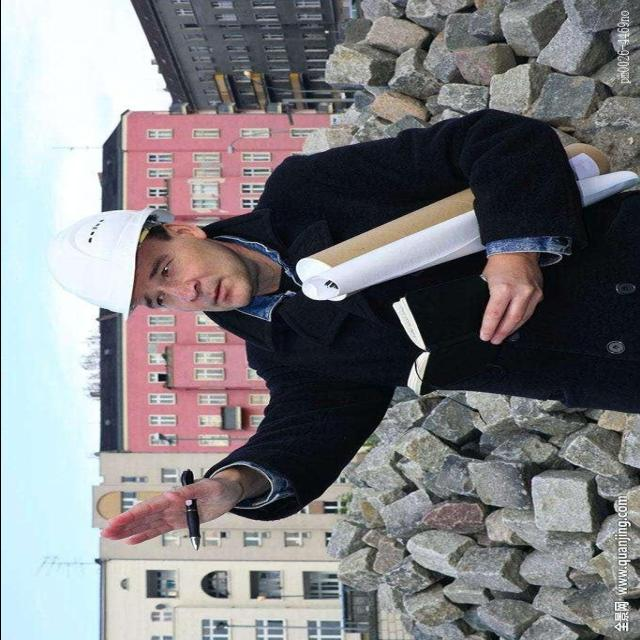helmet: (50, 198, 162, 320)
